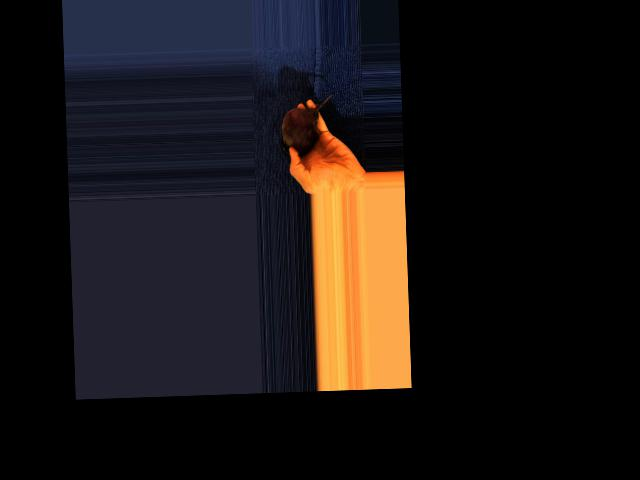beet: (278, 94, 335, 156)
